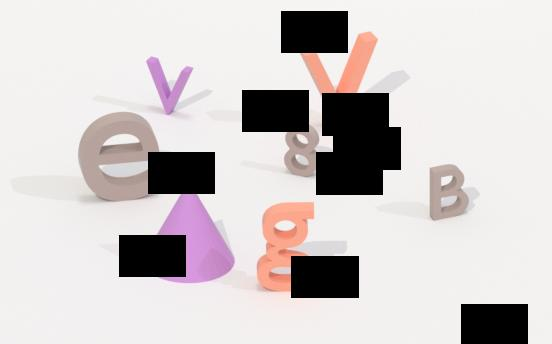8: (280, 120, 326, 181)
b: (428, 162, 471, 221)
e: (73, 112, 166, 202)
g: (253, 201, 320, 293)
non: (136, 187, 240, 282)
v: (288, 35, 386, 129), (140, 51, 197, 119)
